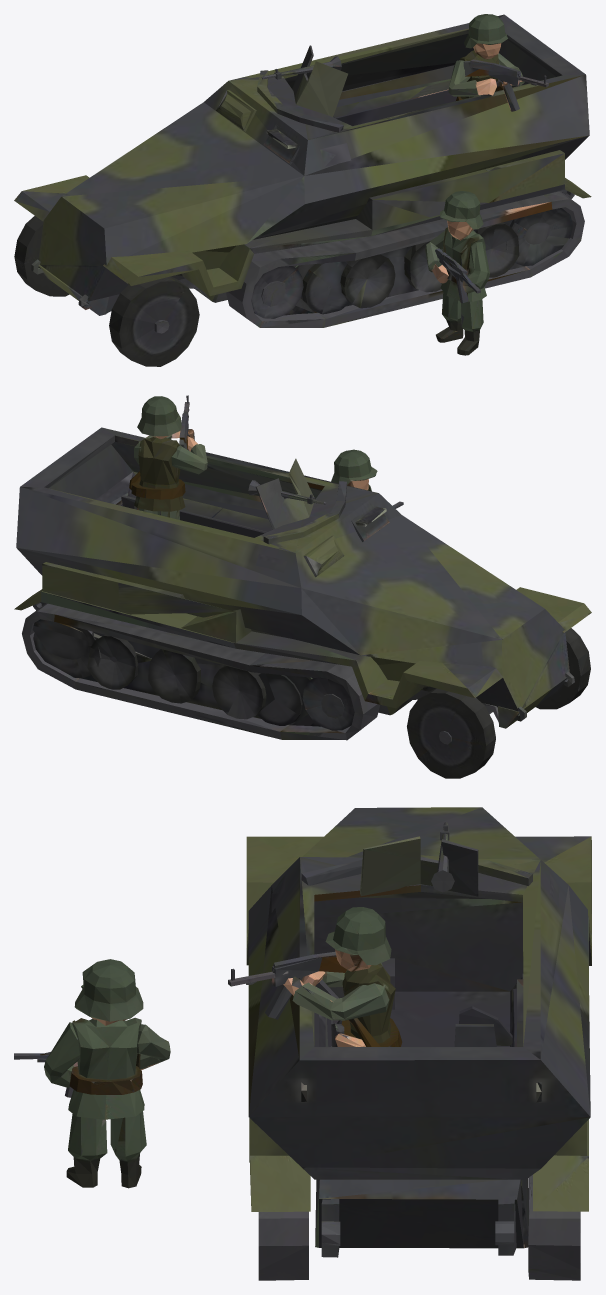
File: bulge_german_mech_0.glb
The picture shows the model from 3 angles, top to bottom: view 1: azimuth 30°, elevation 25°; view 2: azimuth 150°, elevation 25°; view 3: azimuth 270°, elevation 25°; orthographic projection. The views are drawn at different scales.
Parts seen in each view (by area): view 1: geometry_0; view 2: geometry_0; view 3: geometry_0.
Part boxes in pixels (bbox=[...]): geometry_0: bbox=[14, 14, 591, 366]; geometry_0: bbox=[14, 395, 591, 778]; geometry_0: bbox=[14, 807, 591, 1280].
Size of the model in its own units: 0.8861 by 0.414 by 0.6141.
Materials: 1 (1 with a texture image).
